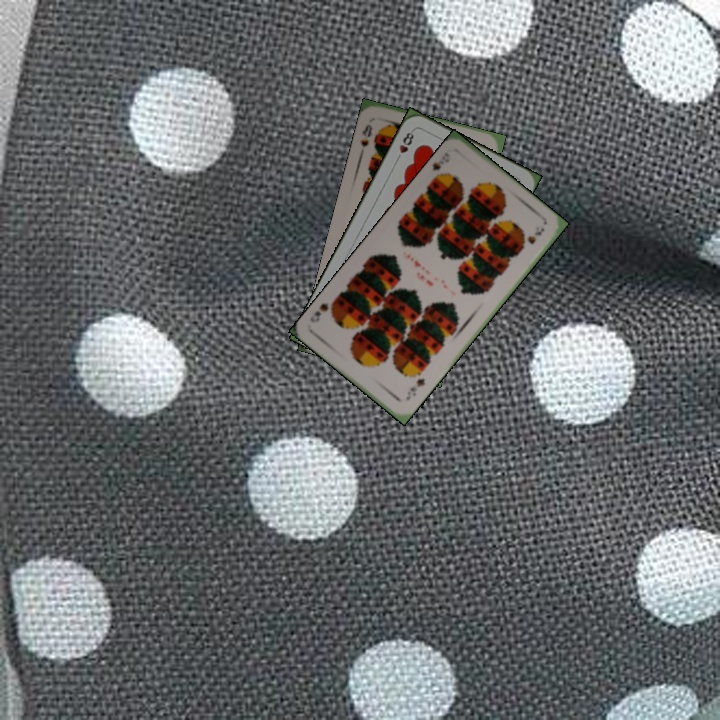H8: (392, 126, 417, 164)
S8: (355, 120, 375, 150)
S9: (402, 374, 428, 403), (428, 155, 447, 183)
